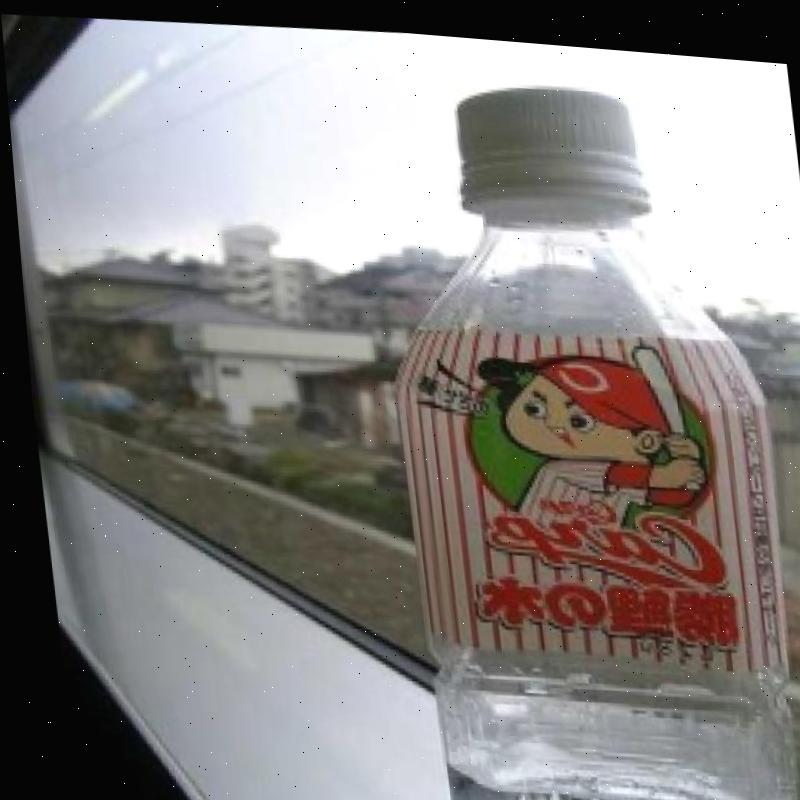botella: (359, 55, 800, 800)
